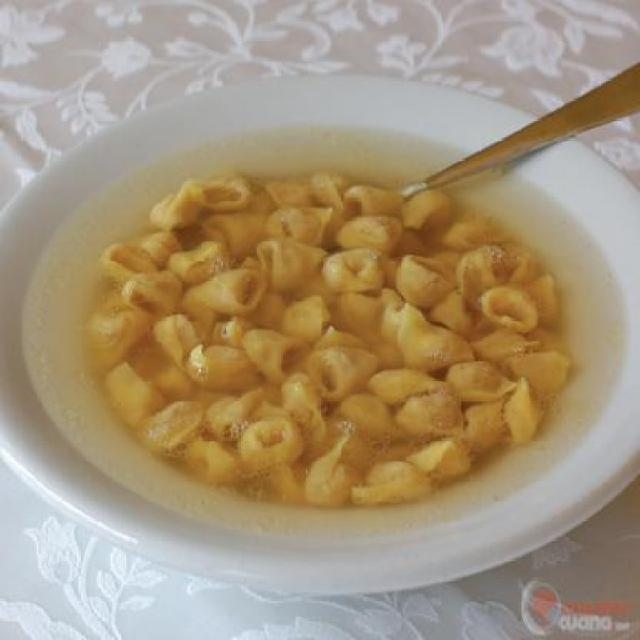Tortellini in broth: (123, 177, 580, 514)
